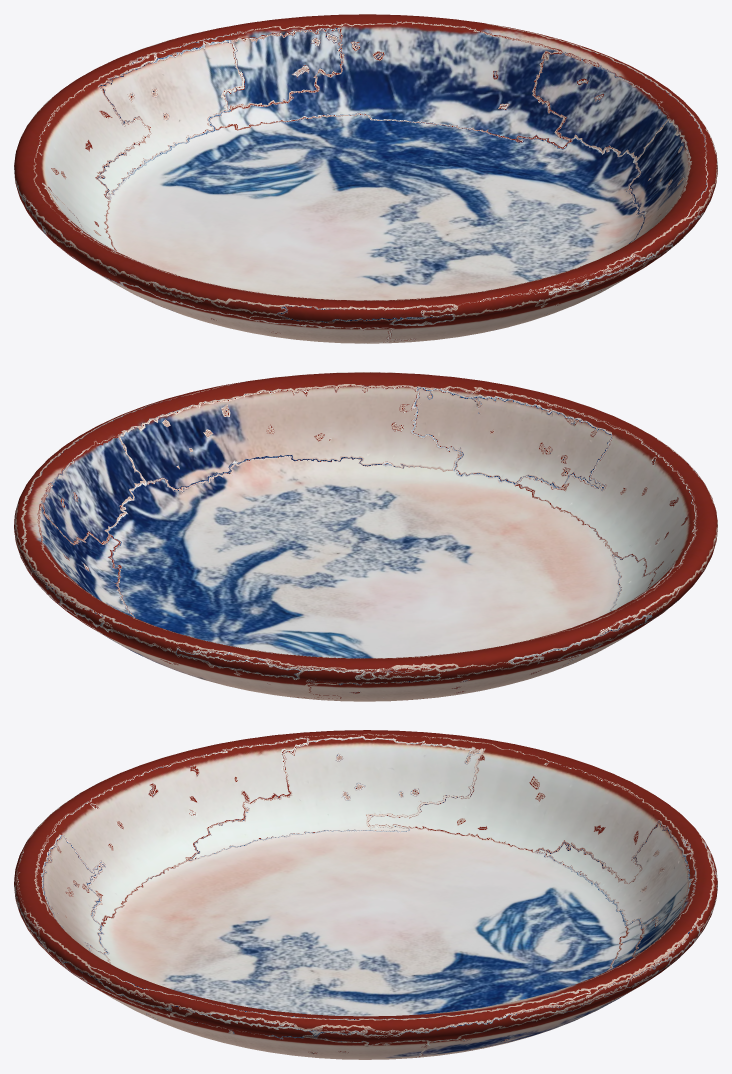
The picture shows the model from 3 angles, top to bottom: view 1: azimuth 30°, elevation 25°; view 2: azimuth 150°, elevation 25°; view 3: azimuth 270°, elevation 25°; orthographic projection.
Size of the model in its own units: 1.99 by 0.2726 by 1.99.
Materials: 1 (1 with a texture image).
